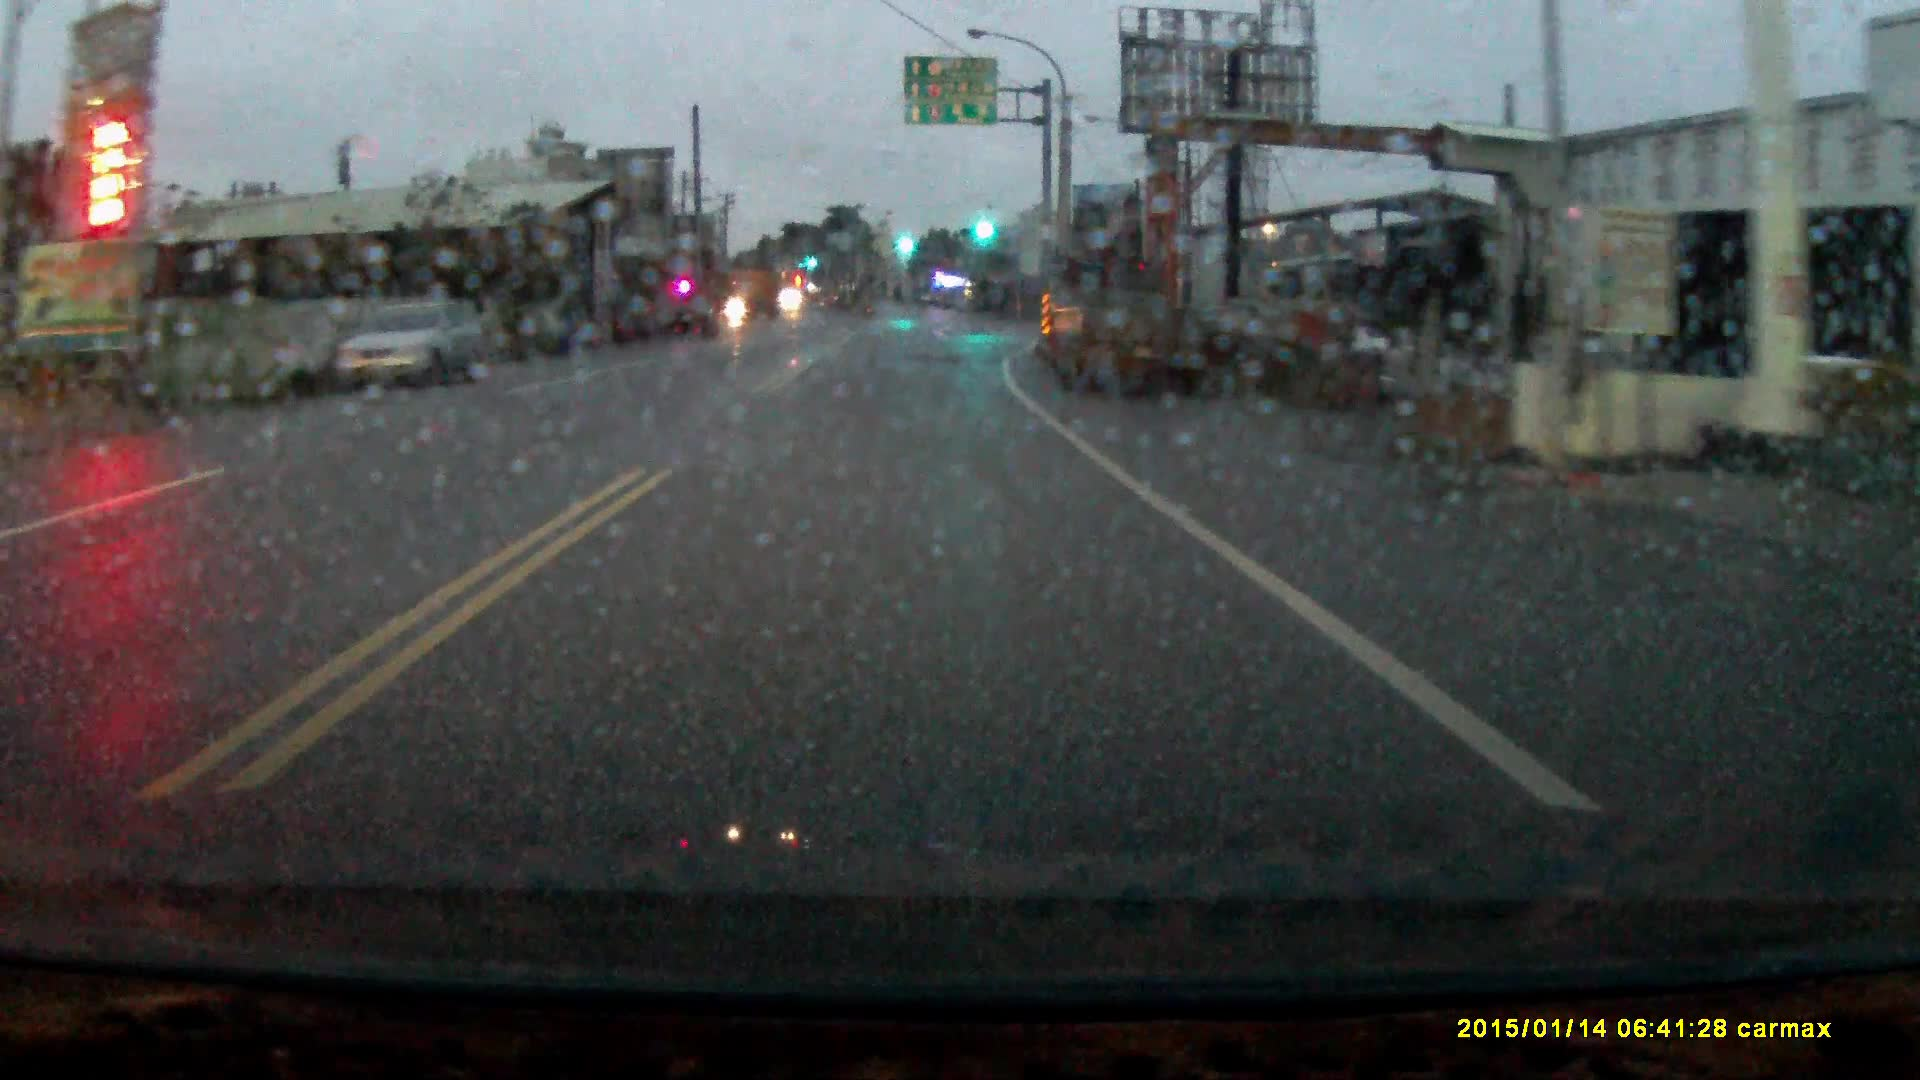vehicle: (1038, 251, 1178, 396), (330, 295, 485, 385), (709, 261, 781, 319)
